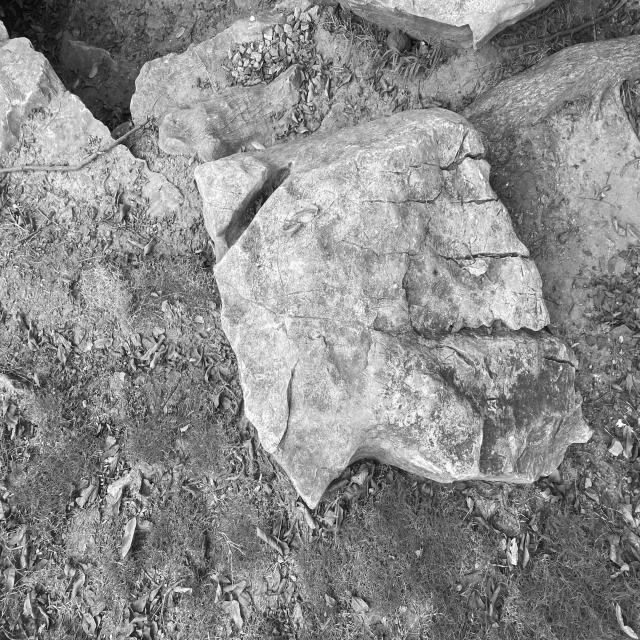Stone: (199, 109, 590, 506)
